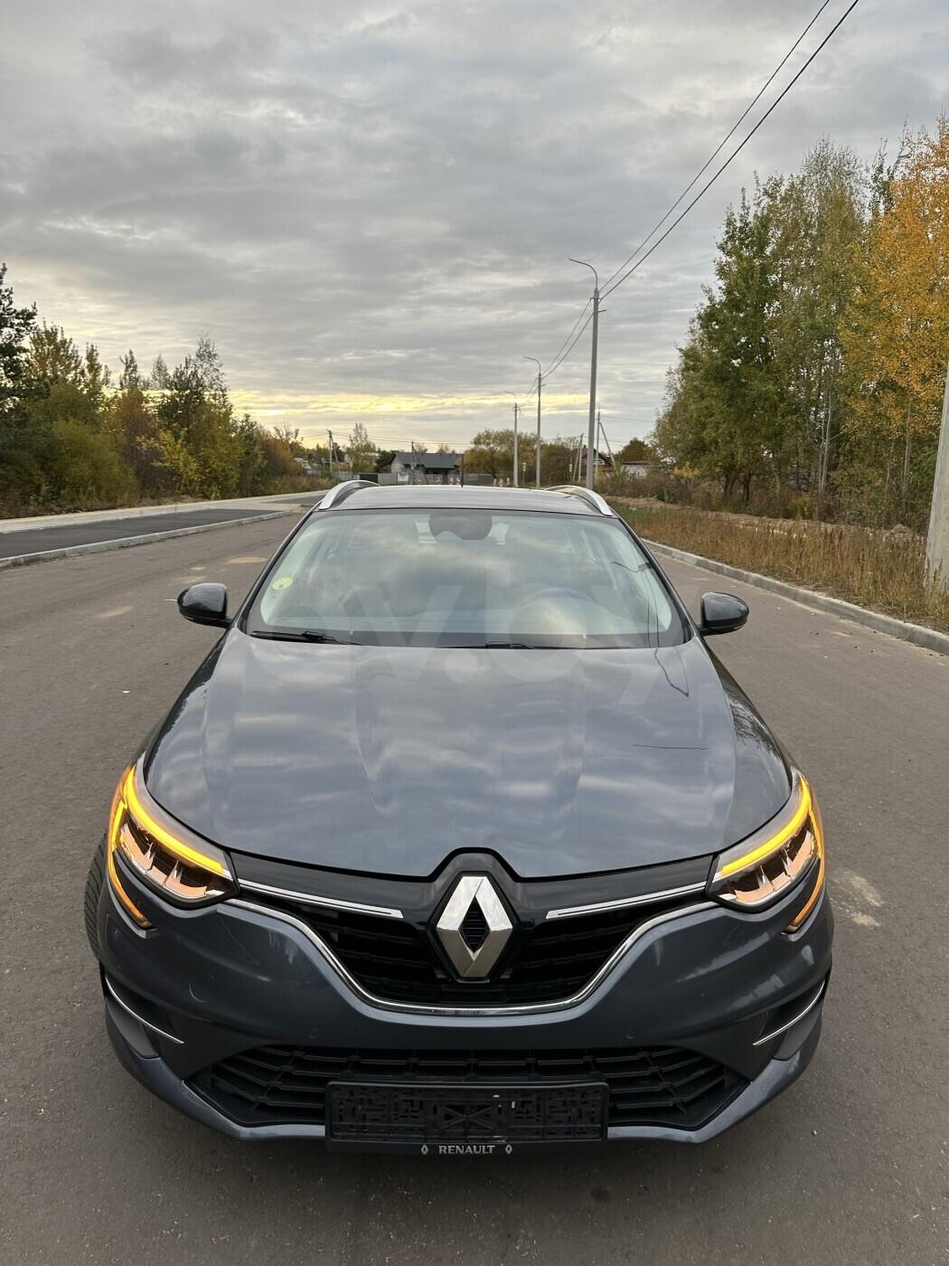Megane_2020: (85, 468, 828, 1154)
